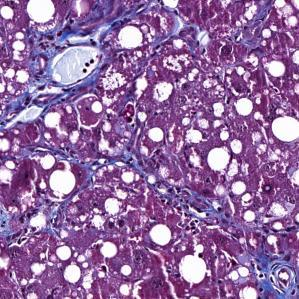fibrosis: (26, 31, 113, 95), (240, 250, 299, 299)
